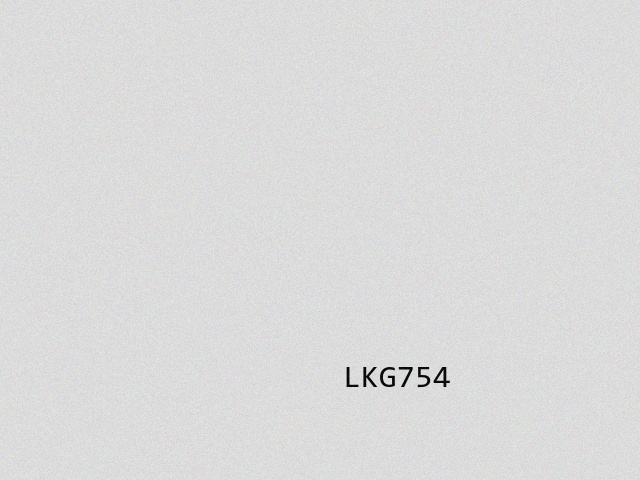OCR_AREA: (339, 363, 455, 392)
